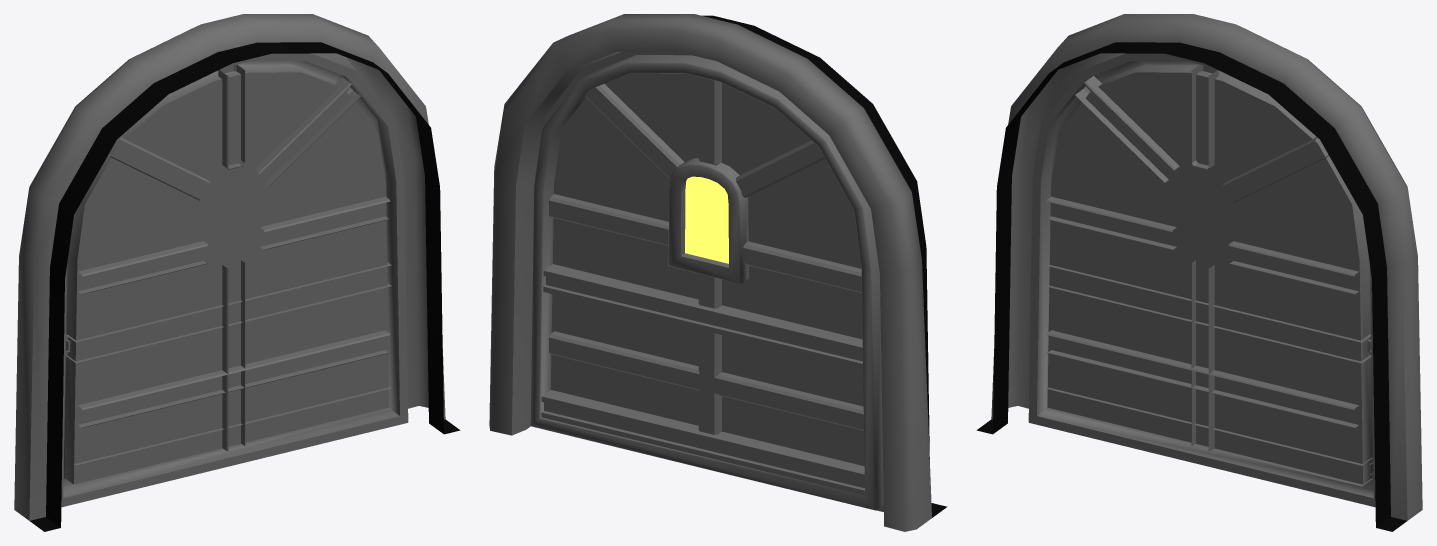
Rendered from PH_mesh_Galaxy_Door.fbx.
3 renders of one model, left to right at view 1: azimuth 30°, elevation 25°; view 2: azimuth 150°, elevation 25°; view 3: azimuth 330°, elevation 25°, orthographic. The views are drawn at different scales.
Visible parts, largest first — view 1: mesh_Galaxy_Door; view 2: mesh_Galaxy_Door; view 3: mesh_Galaxy_Door.
Boxes of the visible parts, <box> form: mesh_Galaxy_Door: <box>14,14,460,531</box>; mesh_Galaxy_Door: <box>489,14,947,531</box>; mesh_Galaxy_Door: <box>976,14,1422,531</box>.
Size of the model in its own units: 2.97 by 3 by 0.4394.
